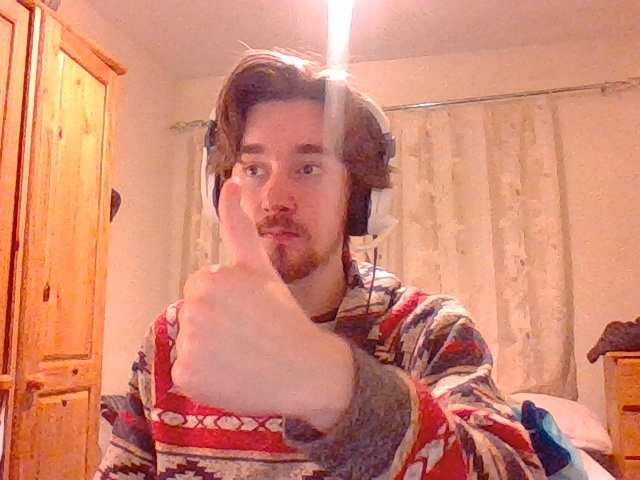good: (173, 178, 288, 415)
